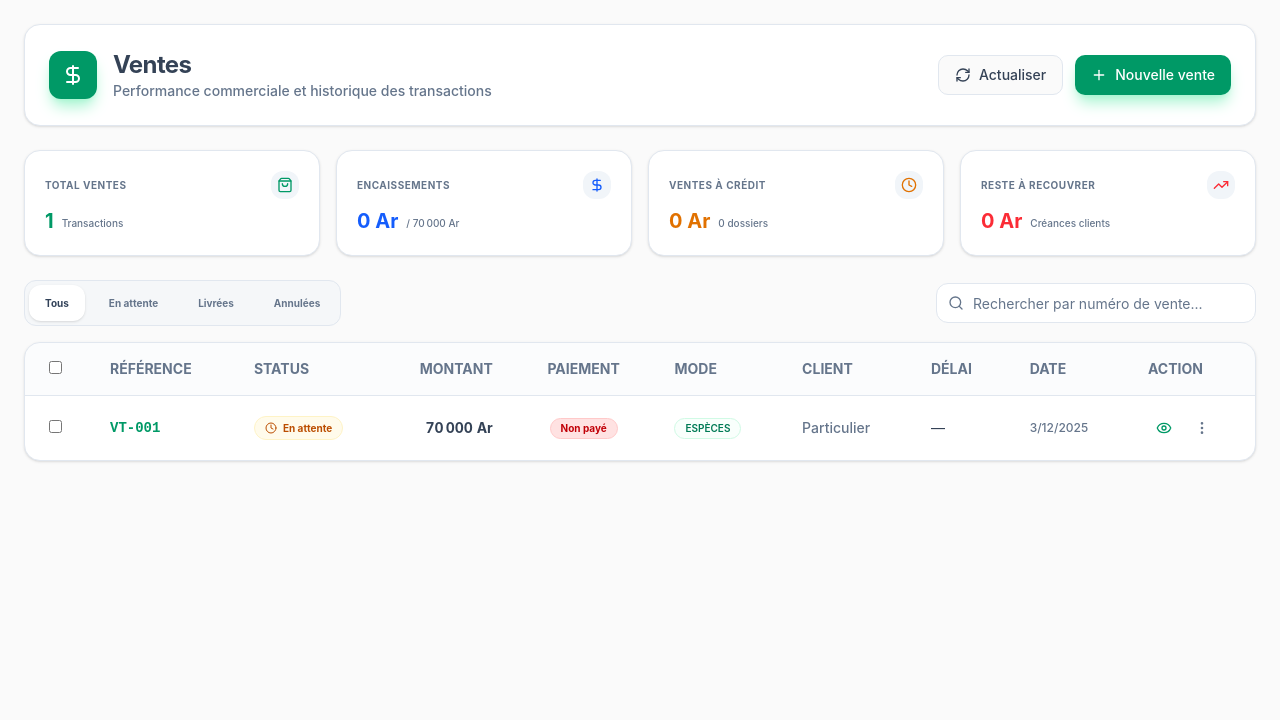
Mission 2 — Ventes : règles de changement de statut › vente en attente non payée : payer, livrer, annuler et supprimer sont proposés
Expected: the text "VT-001" is shown, x1=86 y1=396 x2=230 y2=460
What coordinates should you click on to do the following:
click the 8th button
I would click on:
 (1202, 428)
Its box is x1=1186 y1=412 x2=1218 y2=444.
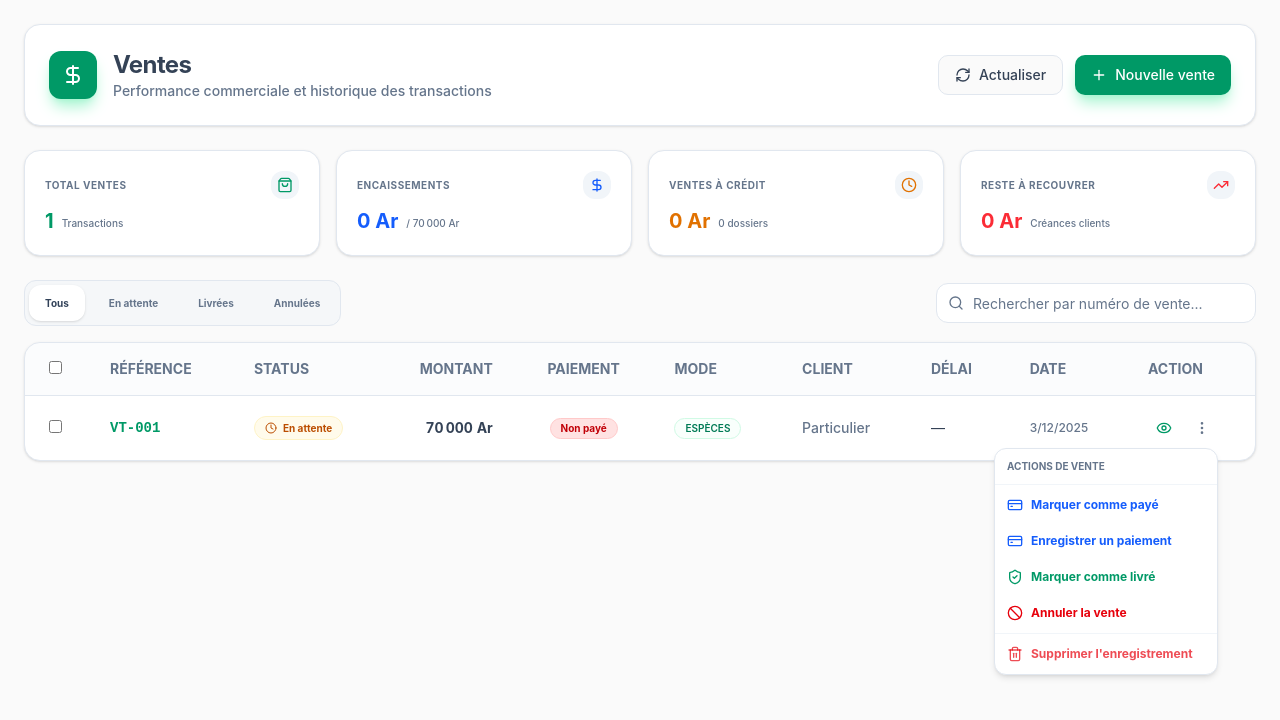
Expected: the menu item "Marquer comme payé" is shown, x1=1007 y1=497 x2=1159 y2=513
Expected: the menu item "Marquer comme livré" is shown, x1=1007 y1=569 x2=1155 y2=585
Expected: the menu item "Annuler la vente" is shown, x1=1007 y1=605 x2=1127 y2=621
